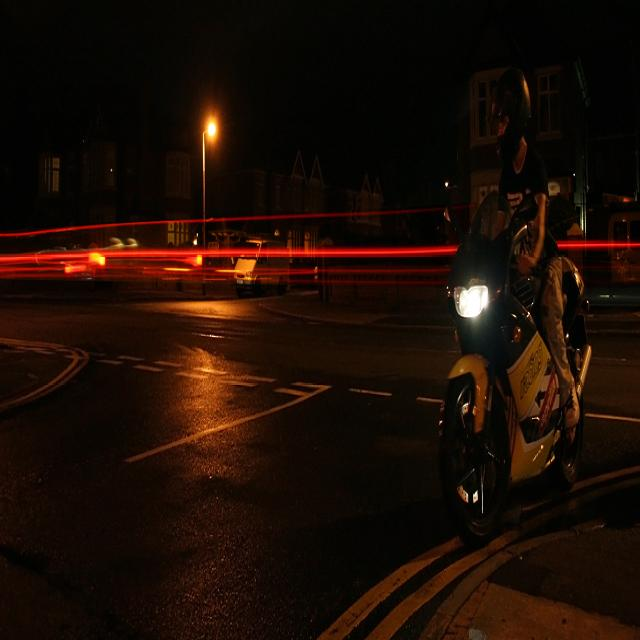Motorbike: (420, 128, 604, 586)
